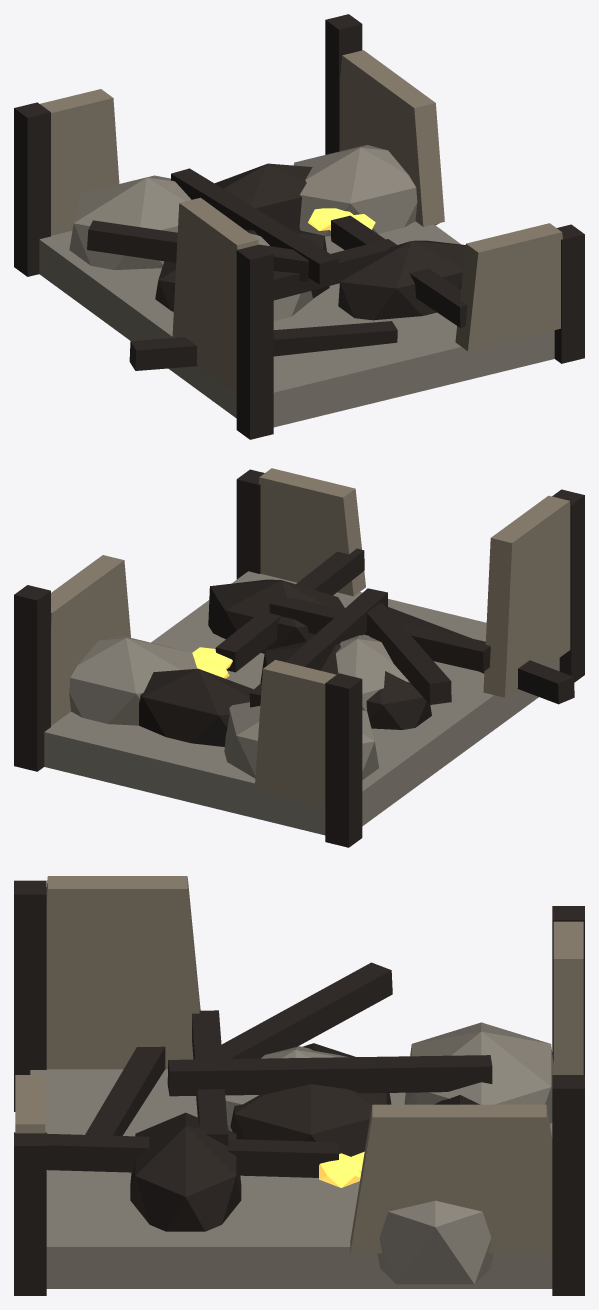
The model's file is Dorf_Kornspeicher_Ruine.fbx.
The picture shows the model from 3 angles, top to bottom: view 1: azimuth 30°, elevation 25°; view 2: azimuth 150°, elevation 25°; view 3: azimuth 270°, elevation 25°; orthographic projection. The views are drawn at different scales.
Visible parts, largest first — view 1: Dorf_Kornspeicher_Ruine; view 2: Dorf_Kornspeicher_Ruine; view 3: Dorf_Kornspeicher_Ruine.
Boxes of the visible parts, left/top/right/bottom form: Dorf_Kornspeicher_Ruine: left=14, top=14, right=584, bottom=439; Dorf_Kornspeicher_Ruine: left=14, top=468, right=584, bottom=847; Dorf_Kornspeicher_Ruine: left=14, top=876, right=584, bottom=1295.
Bounding box in the file's own units: 4.22 × 1.92 × 4.18.
